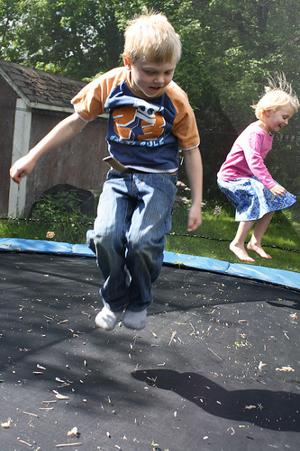person: (11, 12, 204, 328)
